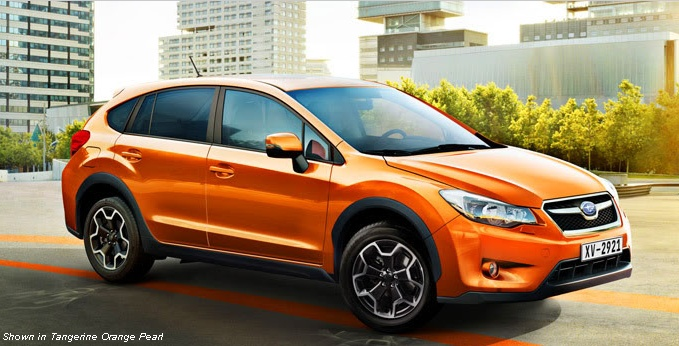pickup: (61, 71, 633, 333)
